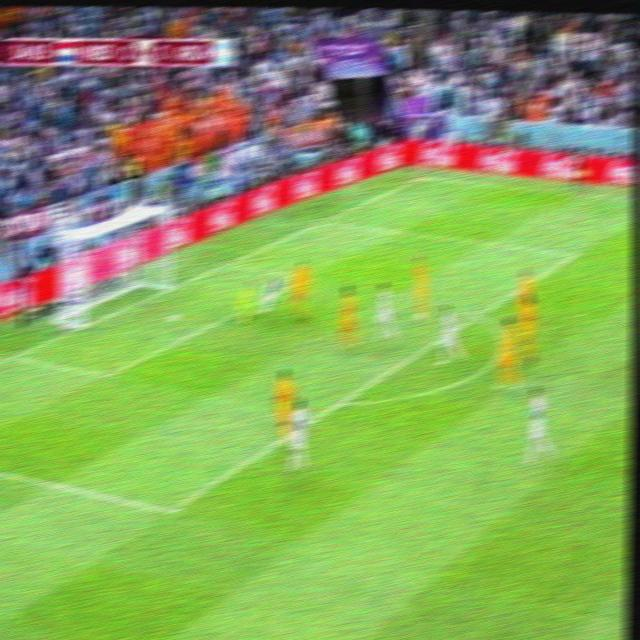bigarea_bottom_inner: (156, 496, 183, 524)
bigarea_top_inner: (564, 242, 585, 264)
bigarea_top_outter: (313, 212, 333, 227)
bottom_arc_area_intersection: (329, 389, 352, 412)
corner: (413, 170, 433, 183)
smallarea_bottom_inner: (93, 360, 118, 387)
smallarea_bottom_outter: (0, 345, 24, 365)
smallarea_top_outter: (216, 253, 236, 271)
top_arc_area_intersection: (468, 302, 489, 322)
